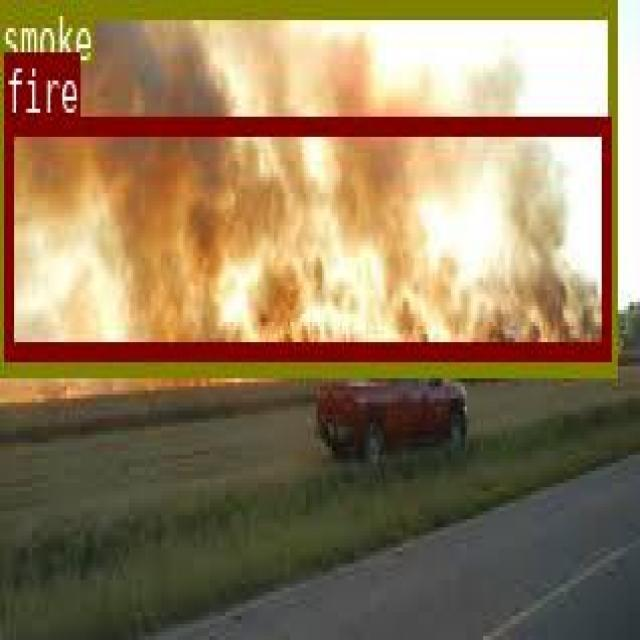fire: (3, 113, 610, 356)
smoke: (0, 0, 616, 370)
